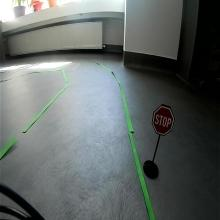stop: (152, 103, 175, 137)
